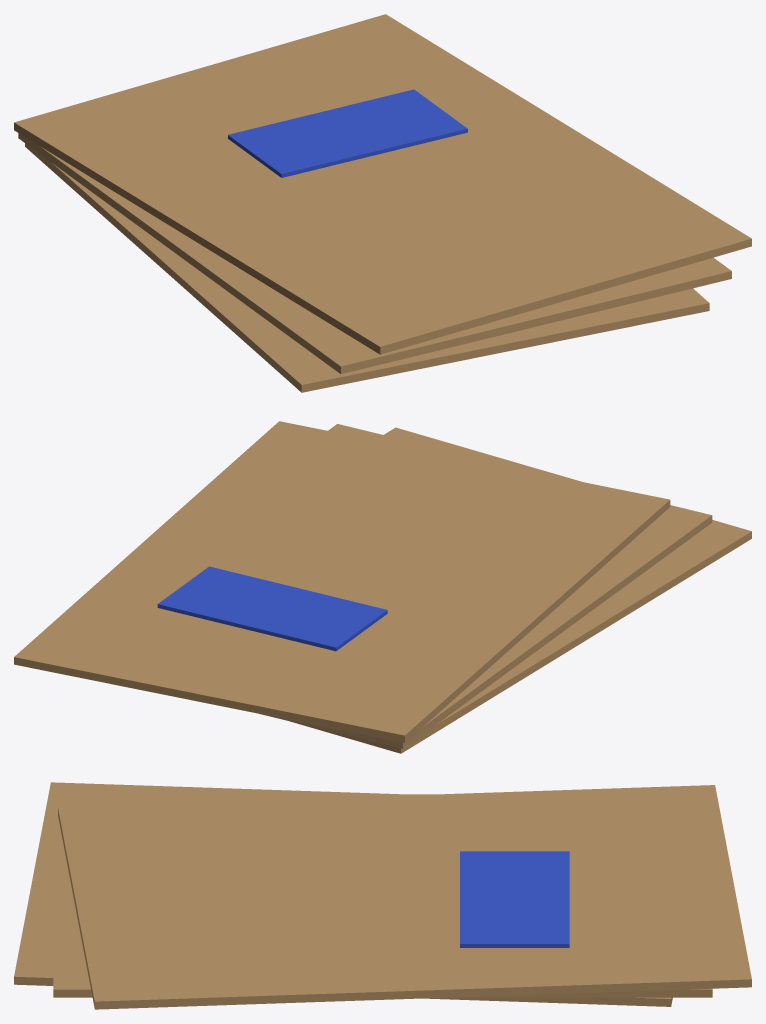
File: cardboard_invoices.glb
The picture shows the model from 3 angles, top to bottom: view 1: azimuth 30°, elevation 25°; view 2: azimuth 150°, elevation 25°; view 3: azimuth 270°, elevation 25°; orthographic projection. The views are drawn at different scales.
Visible parts, largest first — view 1: sheet_card_brown, stamp_invoice_ink; view 2: sheet_card_brown, stamp_invoice_ink; view 3: sheet_card_brown, stamp_invoice_ink.
Part boxes in pixels (left/top/right/bottom): sheet_card_brown: left=14, top=14, right=751, bottom=392; stamp_invoice_ink: left=228, top=89, right=467, bottom=177; sheet_card_brown: left=14, top=421, right=751, bottom=753; stamp_invoice_ink: left=157, top=566, right=387, bottom=651; sheet_card_brown: left=14, top=782, right=751, bottom=1009; stamp_invoice_ink: left=460, top=851, right=569, bottom=947.
Bounding box in the file's own units: 0.2533 × 0.0145 × 0.3358.
